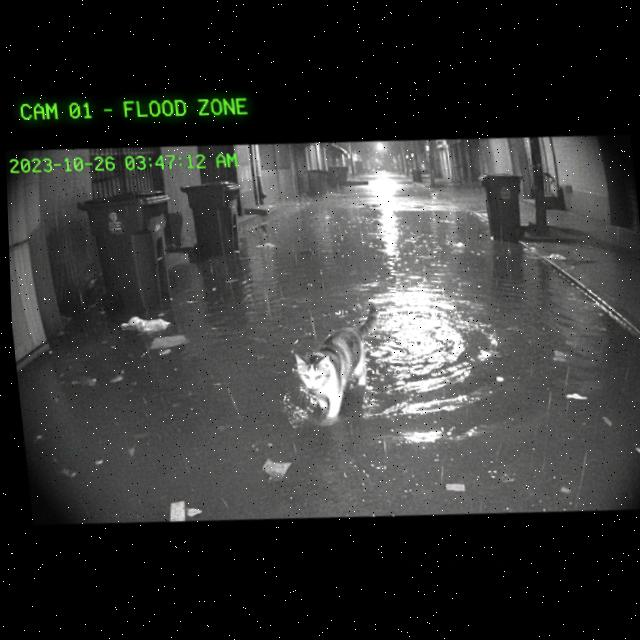cat: (274, 297, 408, 434)
